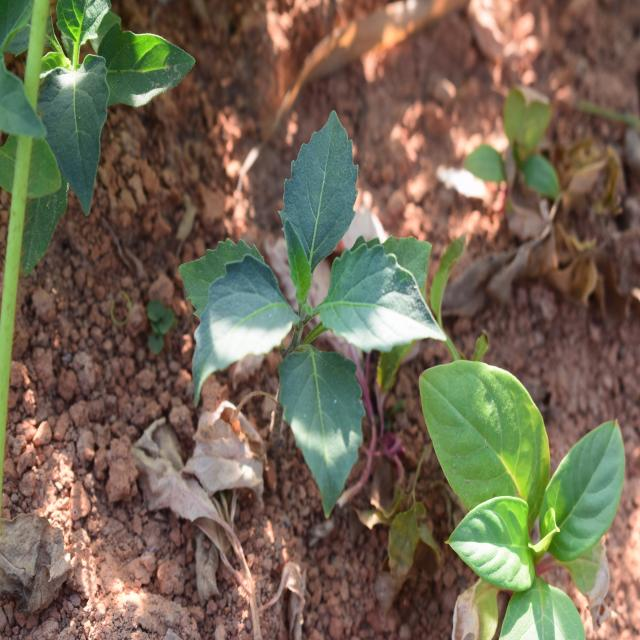Black_nightshade: (204, 136, 434, 478), (26, 0, 166, 180)
